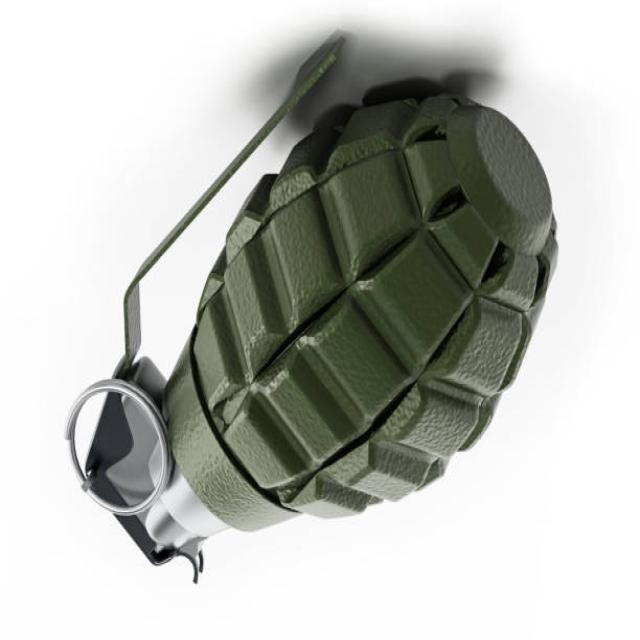grenade: (58, 29, 566, 593)
